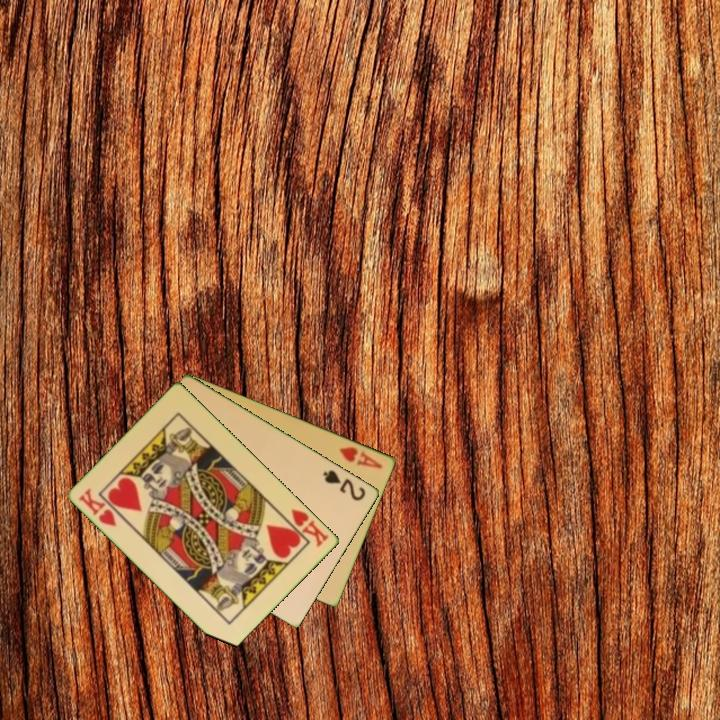2s: (320, 466, 369, 504)
Ah: (336, 443, 386, 471)
Kh: (279, 506, 332, 550), (75, 484, 120, 530)
